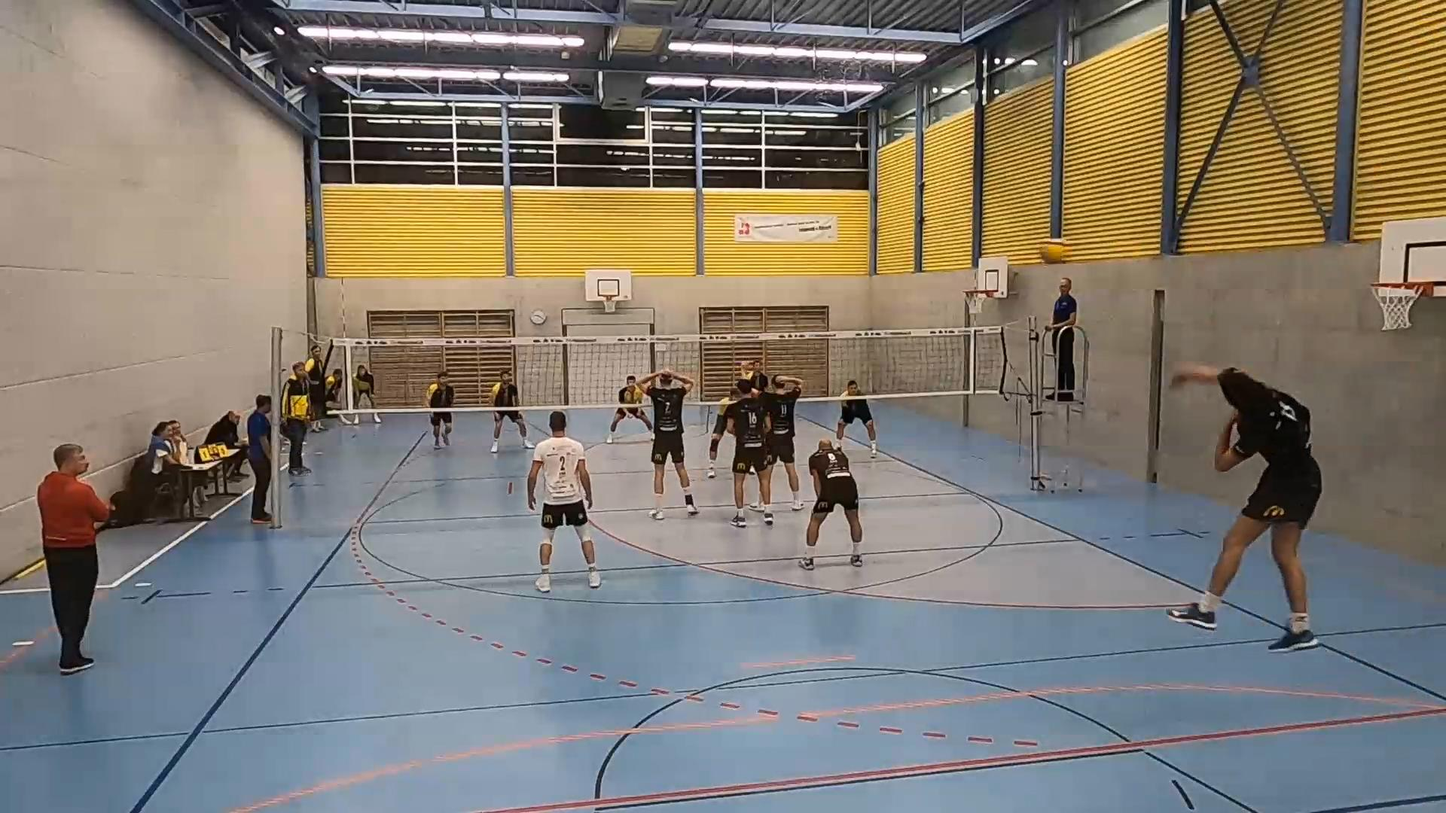battuta: (1163, 360, 1320, 656)
